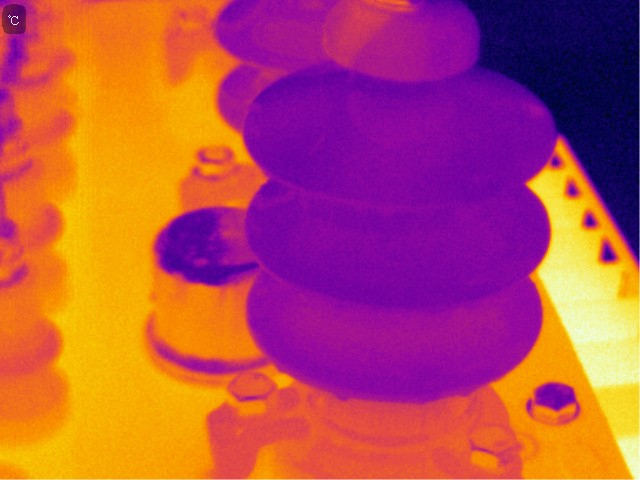Oil: (315, 1, 420, 72), (329, 383, 350, 403)
